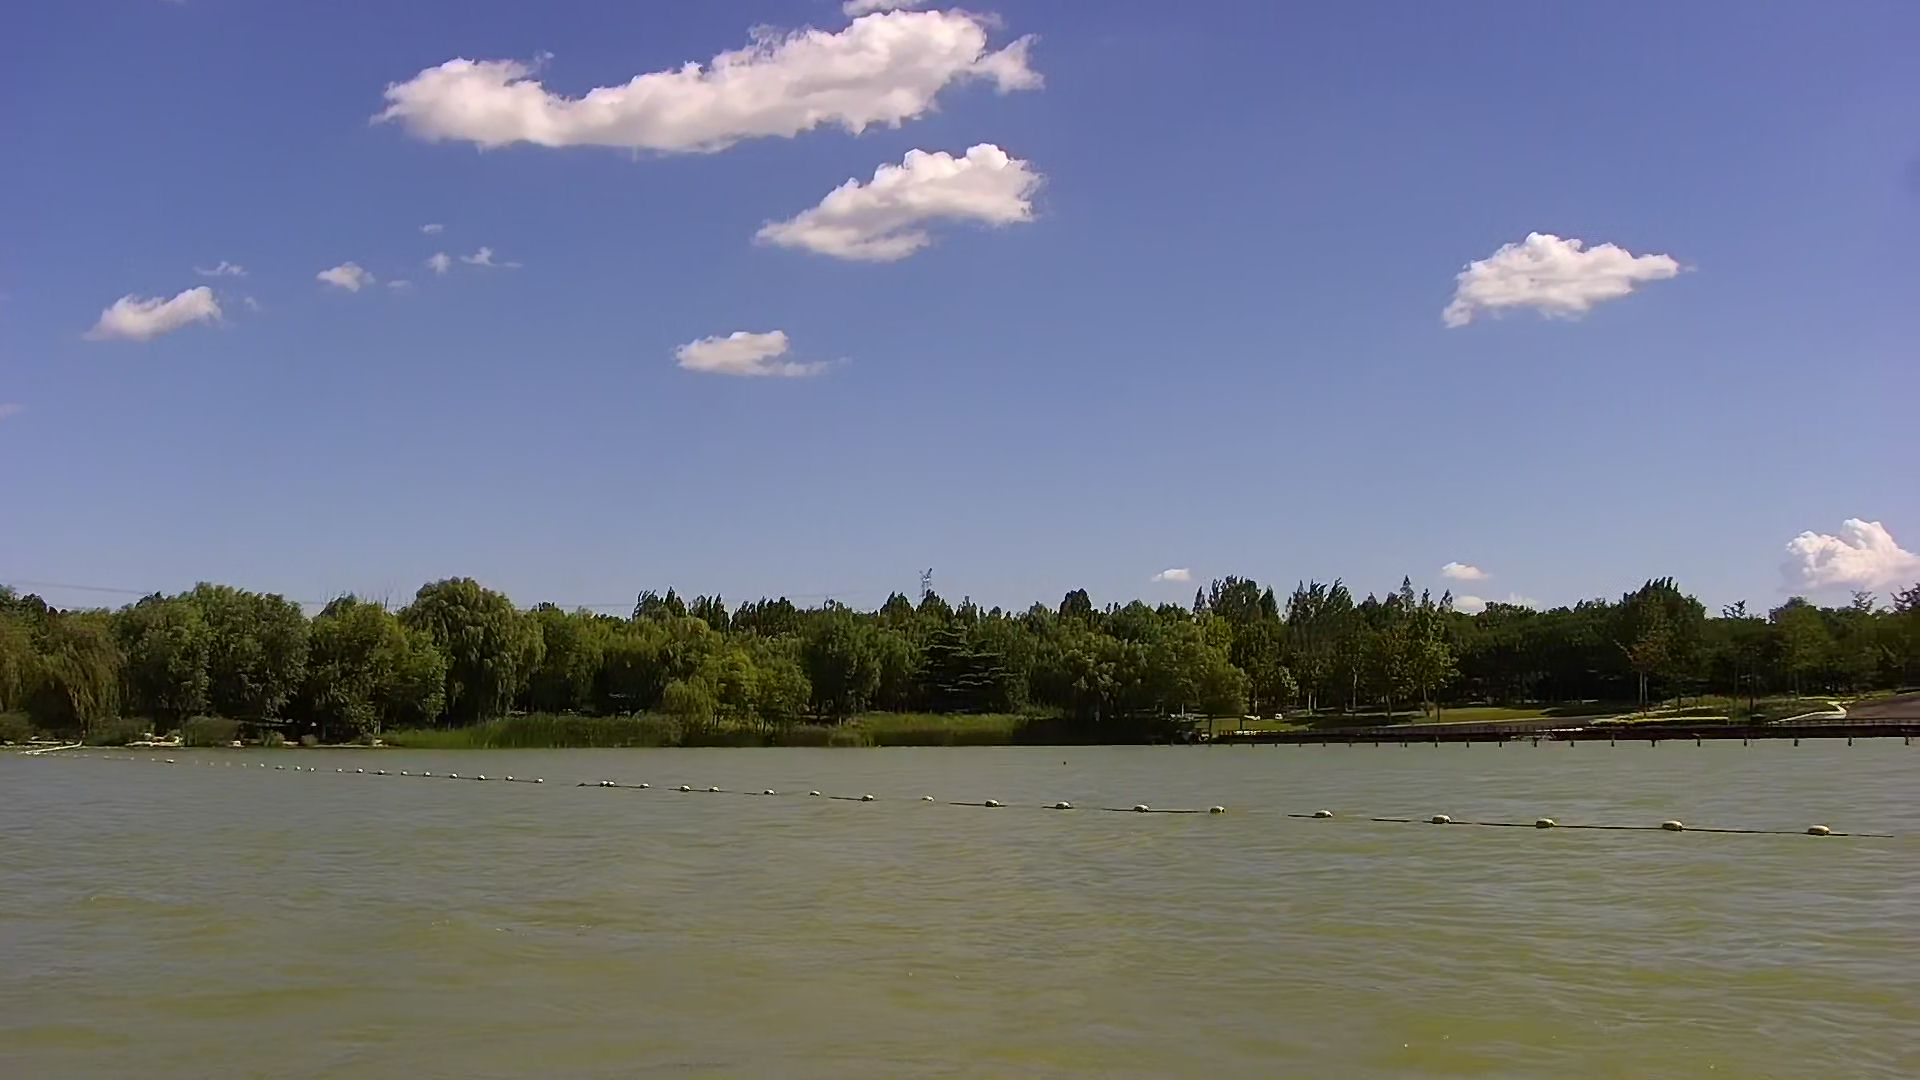ball: (1519, 806, 1573, 851), (1654, 804, 1697, 856), (1116, 785, 1160, 829), (1801, 806, 1841, 852), (1415, 804, 1465, 837), (975, 782, 1013, 822), (1043, 782, 1079, 824), (1203, 785, 1240, 824), (1307, 796, 1340, 832)
